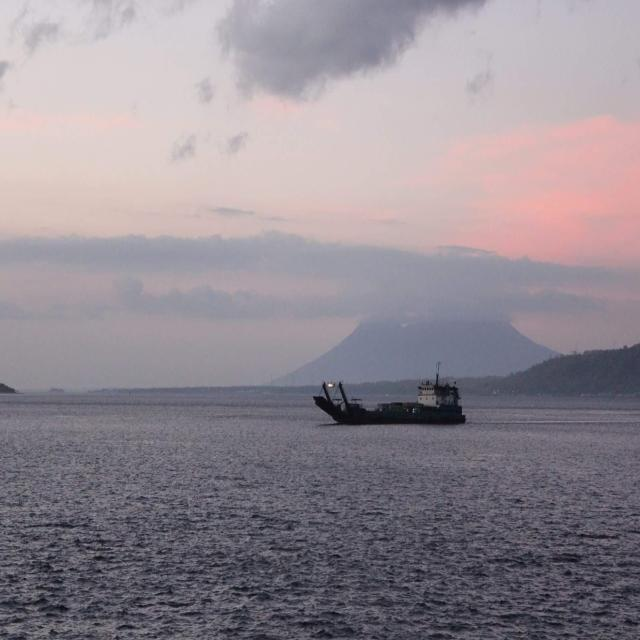cargoship: (312, 360, 466, 430)
